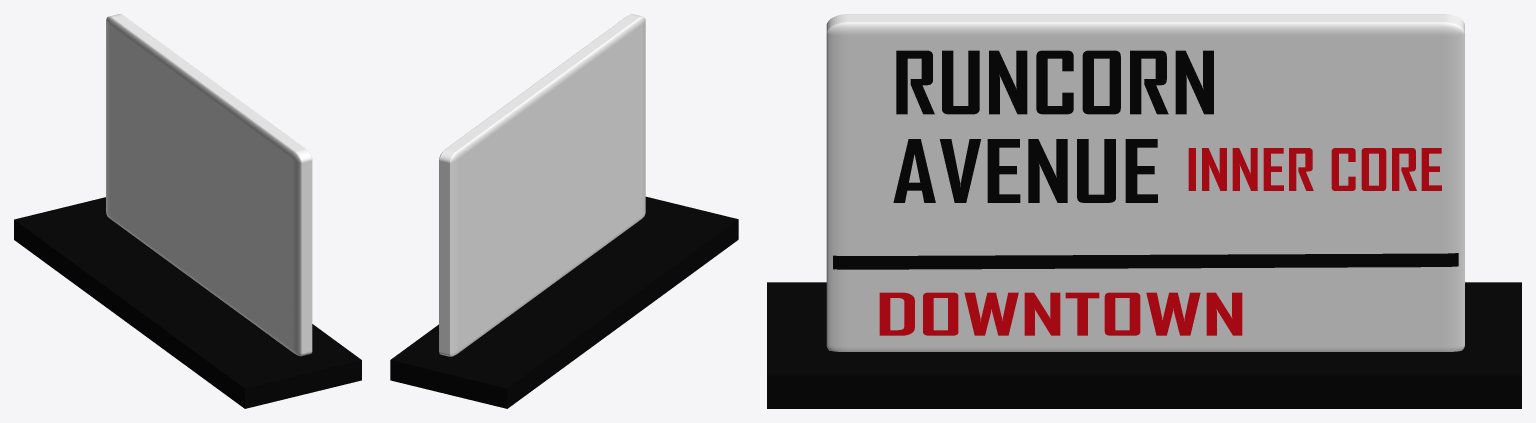
Rendered from uk_styled_street_sign_71.fbx.
3 views of the same model, side by side, from view 1: azimuth 30°, elevation 25°; view 2: azimuth 150°, elevation 25°; view 3: azimuth 270°, elevation 25° (orthographic). The views are drawn at different scales.
Visible parts, largest first — view 1: Cube, Cube.001; view 2: Cube, Cube.001; view 3: Cube, Cube.001, Text, Text.002, Text.001, Text.003.
Boxes of the visible parts, x1,y1,x2,y2 form: Cube: (106,14,312,356); Cube.001: (14,197,361,408); Cube: (439,14,645,356); Cube.001: (390,196,738,408); Cube: (826,14,1464,351); Cube.001: (767,282,1521,408); Text: (896,50,1213,114); Text.002: (879,292,1242,335); Text.001: (893,139,1157,202); Text.003: (1188,148,1441,190).
Bounding box in the file's own units: 12 × 21.71 × 41.07.
